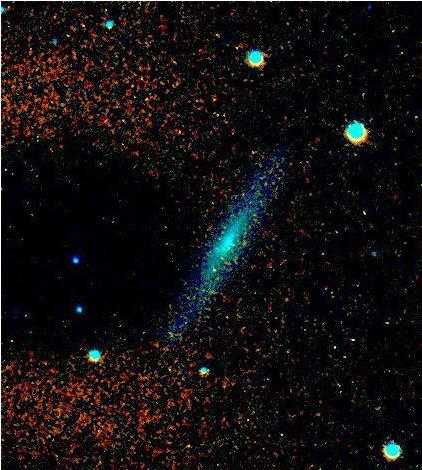star: (188, 251, 218, 281)
